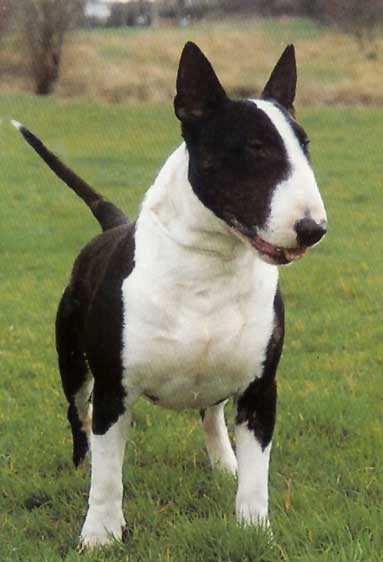bull_terrier: (7, 39, 328, 554)
